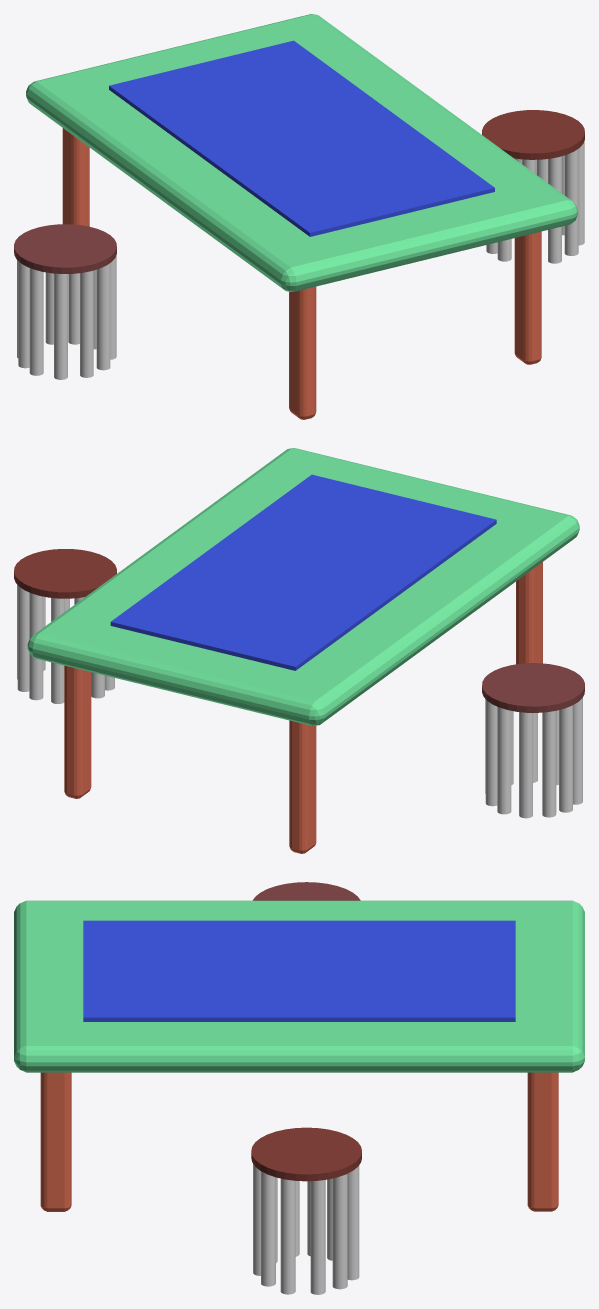
File: MyTableandChair.fbx
The picture shows the model from 3 angles, top to bottom: view 1: azimuth 30°, elevation 25°; view 2: azimuth 150°, elevation 25°; view 3: azimuth 270°, elevation 25°; orthographic projection. The views are drawn at different scales.
Visible parts, largest first — view 1: table, chair, chair(2), leg3, leg1, leg2, chairleg9, chairleg11, chairleg10, chairleg1, chairleg(11), chairleg3 (+5 smaller); view 2: table, chair, chair(2), leg2, leg4, leg3, chairleg7, chairleg5, chairleg6, chairleg3, chairleg4, chairleg(4) (+3 smaller); view 3: table, chair(2), leg1, leg4, chairleg(8), オブジェクト, chairleg(4), chairleg(11), chair, chairleg(5), chairleg(2).
Boxes of the visible parts, <box> form: table: <box>26,14,577,291</box>; chair: <box>14,224,116,273</box>; chair(2): <box>482,110,584,159</box>; leg3: <box>289,286,316,419</box>; leg1: <box>514,231,541,364</box>; leg2: <box>62,128,89,226</box>; chairleg9: <box>29,268,43,375</box>; chairleg11: <box>96,263,110,370</box>; chairleg10: <box>54,273,67,379</box>; chairleg1: <box>80,270,93,377</box>; chairleg(11): <box>564,149,578,255</box>; chairleg3: <box>18,261,29,368</box>; table: <box>27,448,579,725</box>; chair: <box>482,663,584,712</box>; chair(2): <box>14,549,116,598</box>; leg2: <box>289,720,316,853</box>; leg4: <box>64,665,91,798</box>; leg3: <box>516,562,542,664</box>; chairleg7: <box>542,711,556,817</box>; chairleg5: <box>497,707,511,814</box>; chairleg6: <box>519,712,532,818</box>; chairleg3: <box>559,705,572,812</box>; chairleg4: <box>485,699,497,806</box>; chairleg(4): <box>17,585,29,691</box>; table: <box>14,900,584,1072</box>; chair(2): <box>251,1127,361,1181</box>; leg1: <box>40,1072,71,1211</box>; leg4: <box>527,1072,558,1211</box>; chairleg(8): <box>280,1178,295,1294</box>; オブジェクト: <box>310,1180,325,1294</box>; chairleg(4): <box>332,1174,347,1289</box>; chairleg(11): <box>261,1171,275,1286</box>; chair: <box>253,882,360,900</box>; chairleg(5): <box>347,1165,359,1280</box>; chairleg(2): <box>253,1164,260,1275</box>.
Bounding box in the file's own units: 458 × 133 × 378.
